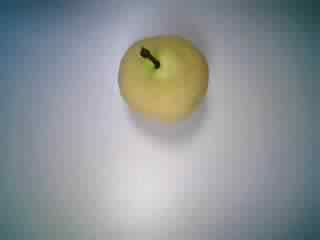pear: (109, 23, 215, 130)
